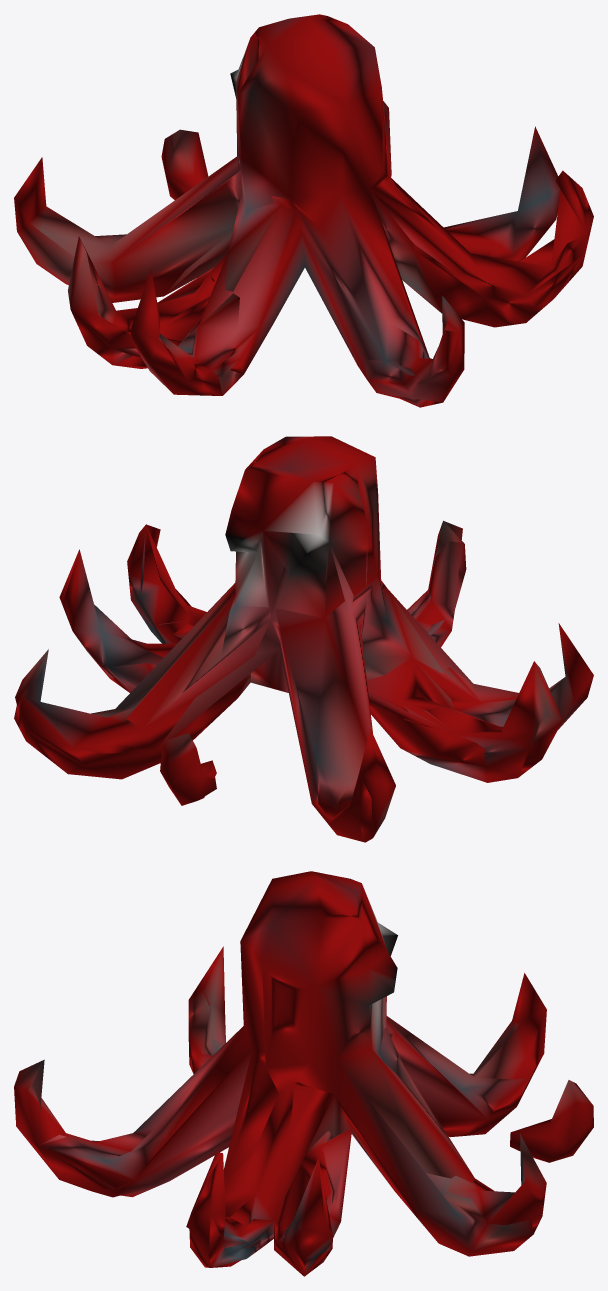
The model's file is gen3d-octopus-lod1.glb.
3 views of the same model, one above another, from view 1: azimuth 30°, elevation 25°; view 2: azimuth 150°, elevation 25°; view 3: azimuth 270°, elevation 25° (orthographic).
Visible parts, largest first — view 1: part_0; view 2: part_0; view 3: part_0.
Part boxes in pixels (box(x1,y1,x2,y2)): part_0: box(14, 14, 593, 407); part_0: box(14, 436, 593, 842); part_0: box(14, 871, 593, 1276).
Size of the model in its own units: 1.64 by 0.9999 by 1.64.
